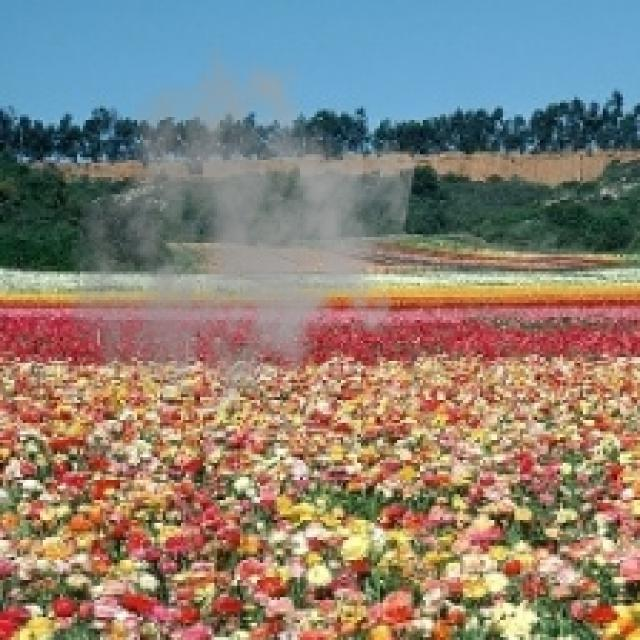smoke: (63, 40, 420, 443)
